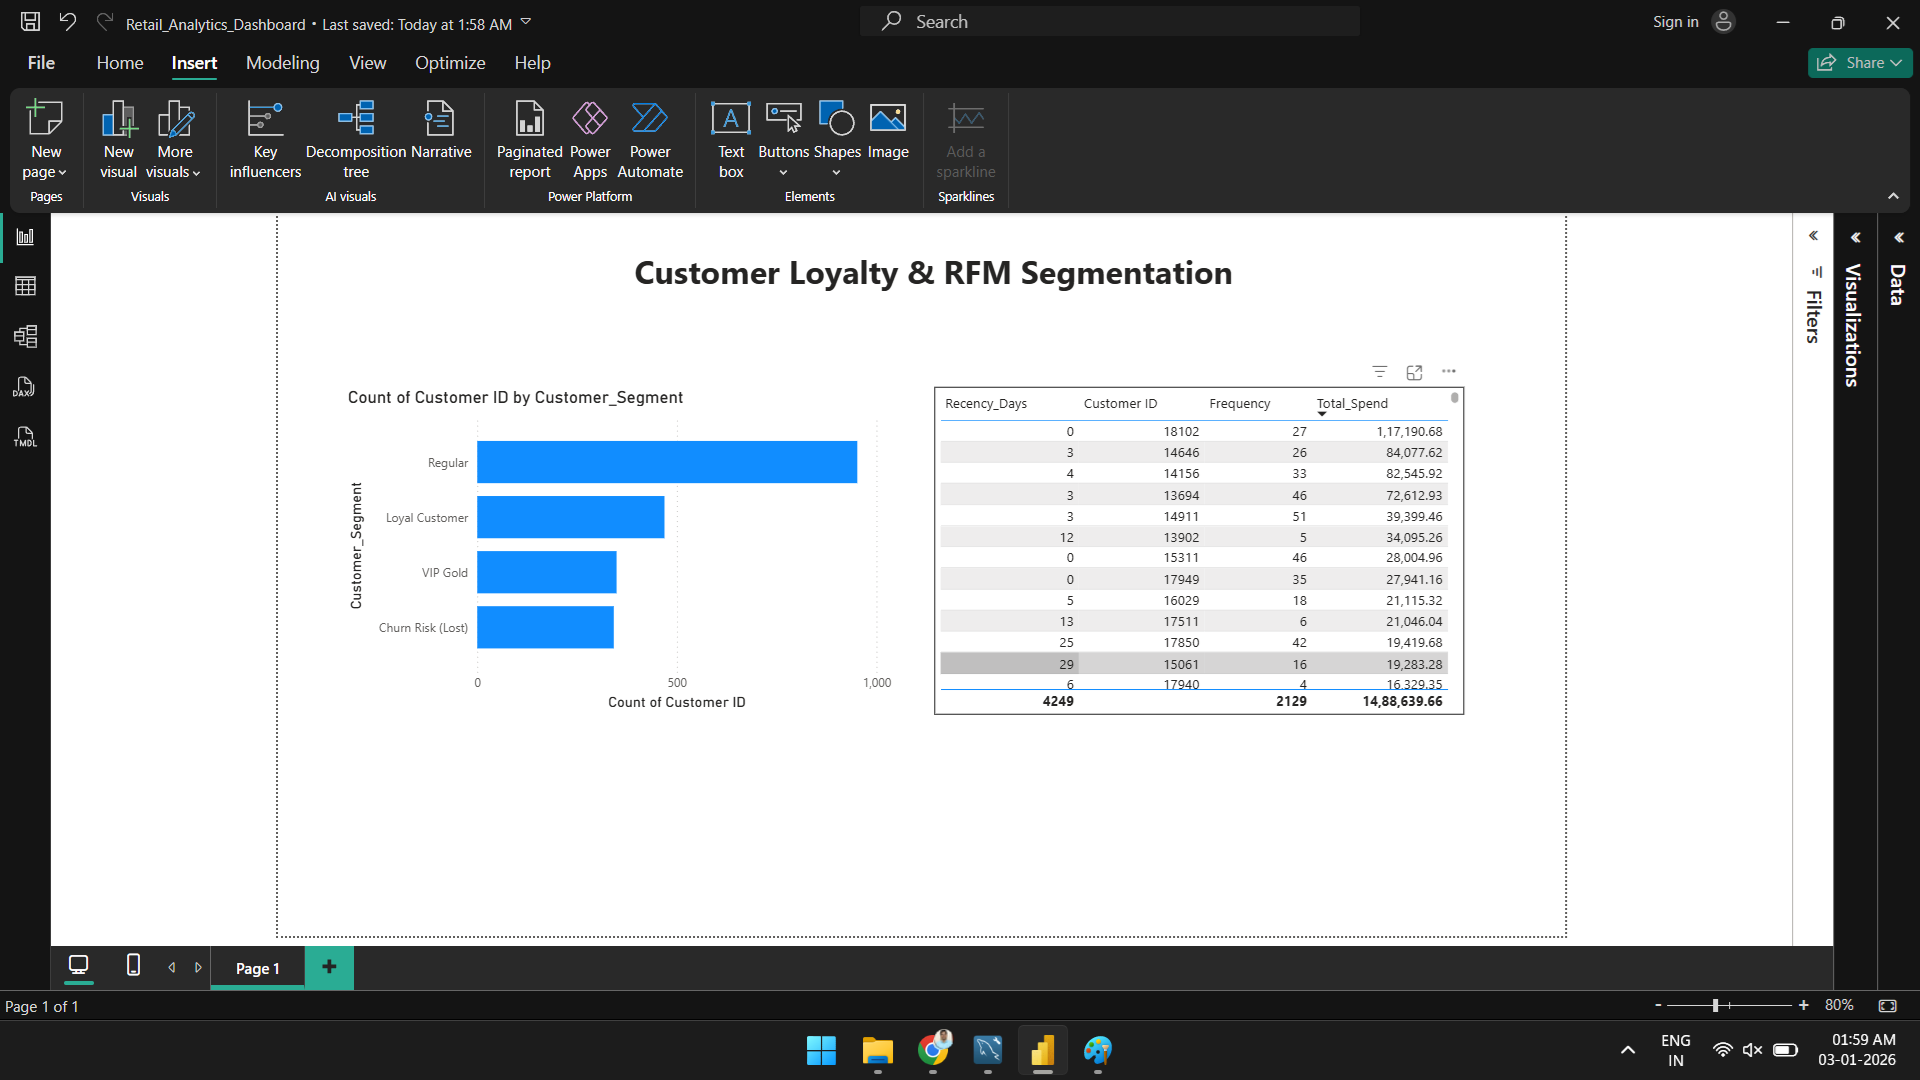

What the dashboard file says about the page in this screenshot:
{"tool":"powerbi","page":{"name":"Customer Segmentation","canvas":[1280,720],"ordinal":1},"visuals":[{"type":"clusteredBarChart","fields":{"Category":["customer_rfm_data.Customer_Segment"],"Y":["Count(customer_rfm_data.Customer ID)"]},"box":[64.7,172.9,551.1,327.2],"z":0},{"type":"tableEx","fields":{"Values":["Sum(customer_rfm_data.Recency_Days)","customer_rfm_data.Customer ID","Sum(customer_rfm_data.Frequency)","Sum(customer_rfm_data.Total_Spend)"]},"box":[653.1,172.9,527.4,327.2],"z":1000},{"type":"textbox","box":[325.2,31.6,655.9,89.2],"z":2000}]}

Visuals, with their boxes on the page's 1280x720 design canvas (x1, y1, x2, y2). These are canvas units, not pixel positions in the 1920x1080 screenshot, which may show the page scaled, cropped or inside an application window:
clusteredBarChart - customer_rfm_data.Customer_Segment x Count(customer_rfm_data.Customer ID): region(65, 173, 616, 500)
tableEx - Sum(customer_rfm_data.Recency_Days) x customer_rfm_data.Customer ID: region(653, 173, 1180, 500)
textbox: region(325, 32, 981, 121)
